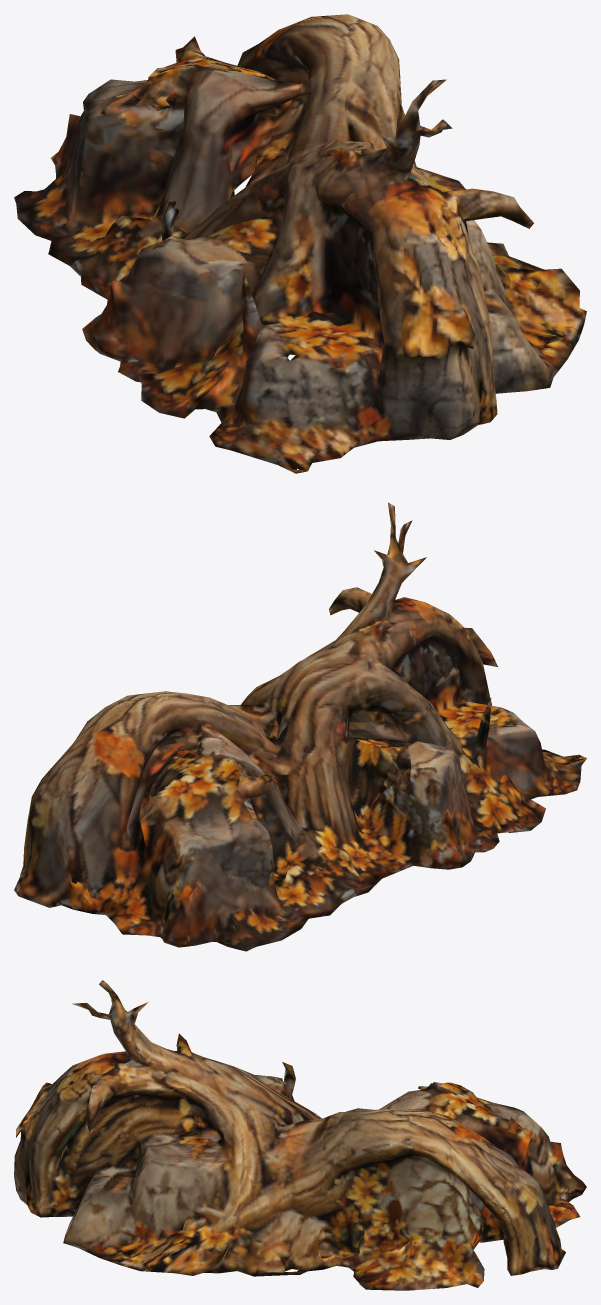
File: FallDecor_BossRoom_RootBridge.fbx
The picture shows the model from 3 angles, top to bottom: view 1: azimuth 30°, elevation 25°; view 2: azimuth 150°, elevation 25°; view 3: azimuth 270°, elevation 25°; orthographic projection. The views are drawn at different scales.
Visible parts, largest first — view 1: FallDecor_BossRoom_RootBridge_Mesh; view 2: FallDecor_BossRoom_RootBridge_Mesh; view 3: FallDecor_BossRoom_RootBridge_Mesh.
Part boxes in pixels (box(x1,y1,x2,y2)): FallDecor_BossRoom_RootBridge_Mesh: box(14, 14, 586, 473); FallDecor_BossRoom_RootBridge_Mesh: box(14, 502, 586, 951); FallDecor_BossRoom_RootBridge_Mesh: box(14, 980, 586, 1290).
Bounding box in the file's own units: 4.14 × 2.67 × 6.
1 material, 1 textured.
